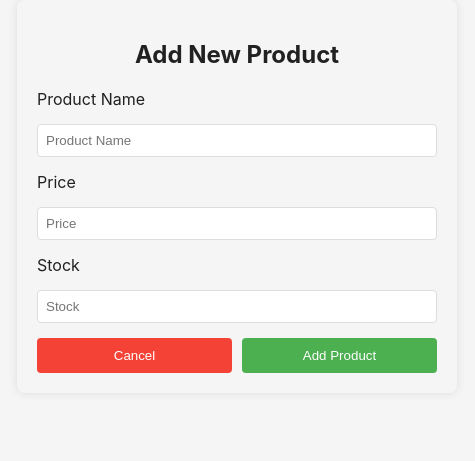
Test: AddProduct Component › validates empty fields (Client-side validation)
Click the button "Add Product": (340, 355) x1=242 y1=338 x2=437 y2=373
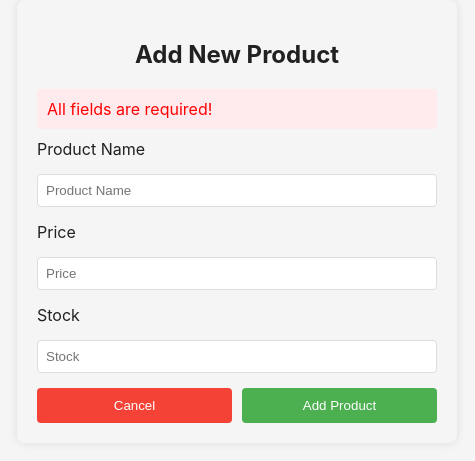
Check: the text "All fields are required!" is shown, box x1=37 y1=89 x2=437 y2=129
